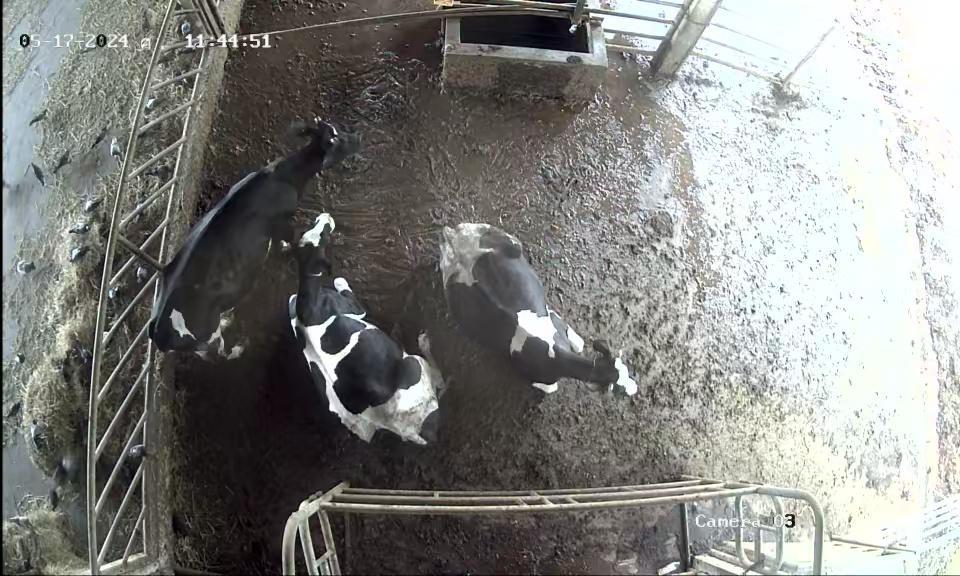lay: (423, 195, 656, 417), (271, 208, 459, 453)
stand: (142, 104, 364, 383)
